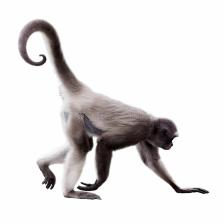monkey: (86, 82, 204, 206)
